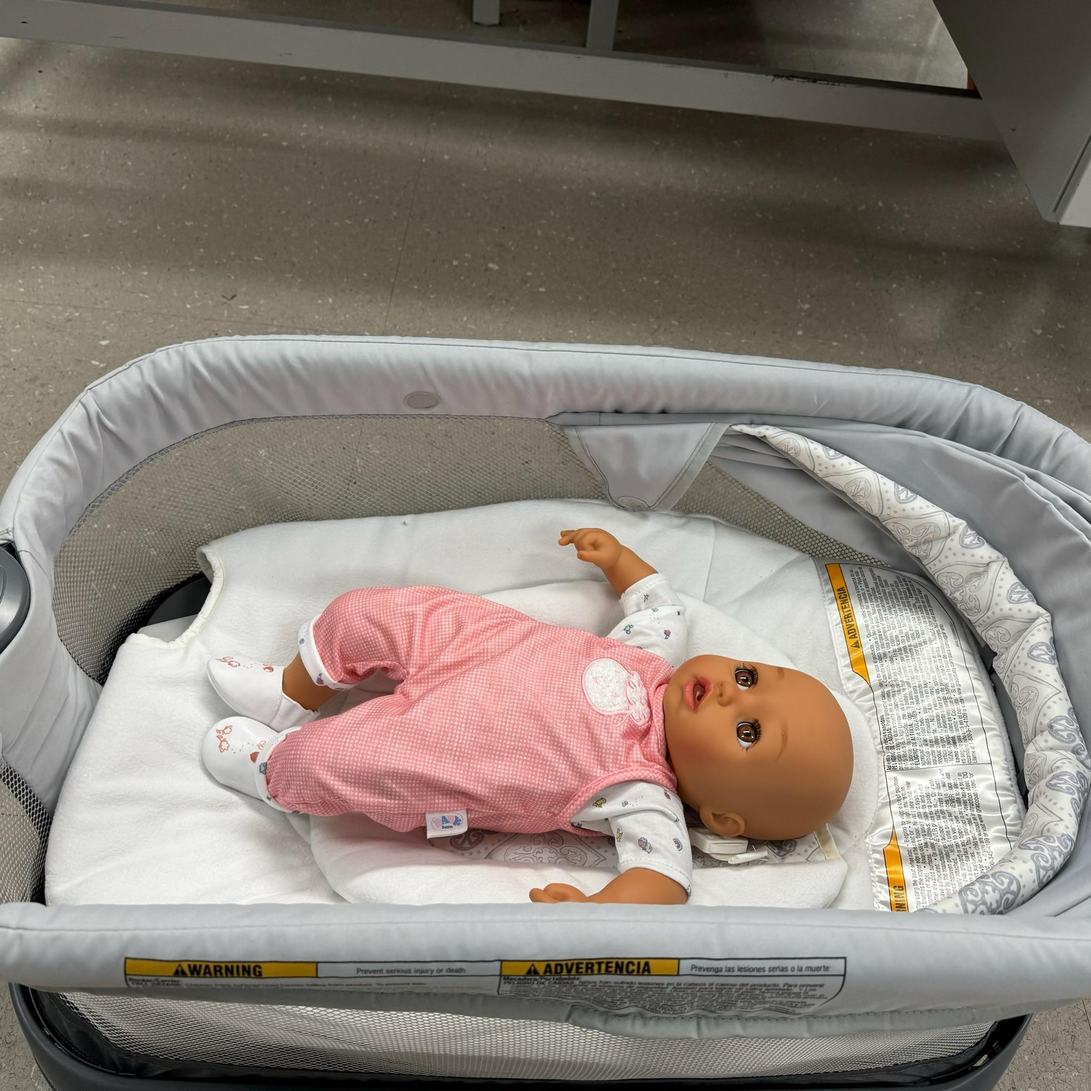baby: (184, 507, 883, 915)
